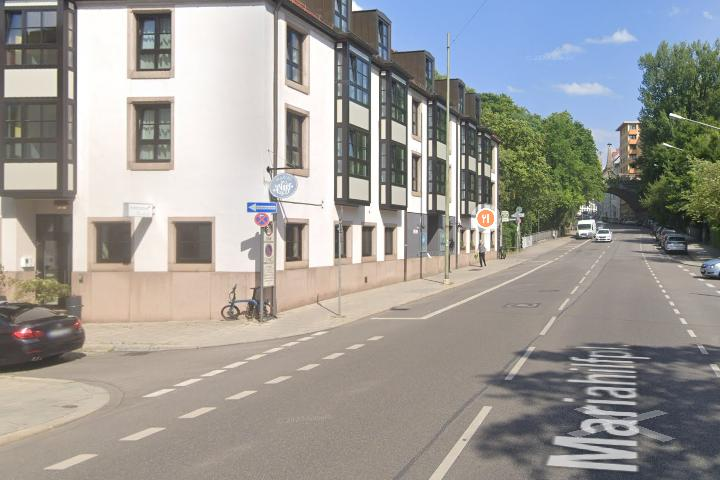google_maps: (477, 209, 495, 227)
traffic_sign: (254, 212, 270, 227)
vehicle: (1, 298, 95, 375), (659, 231, 691, 255), (574, 218, 598, 240), (593, 228, 613, 244)
